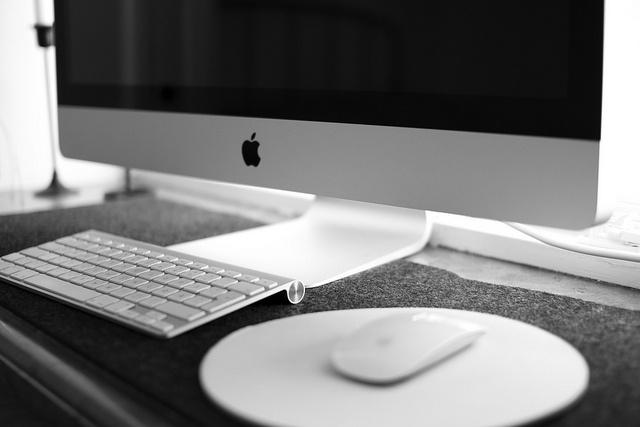AIO PC-Monitor-TV: (51, 0, 618, 230)
